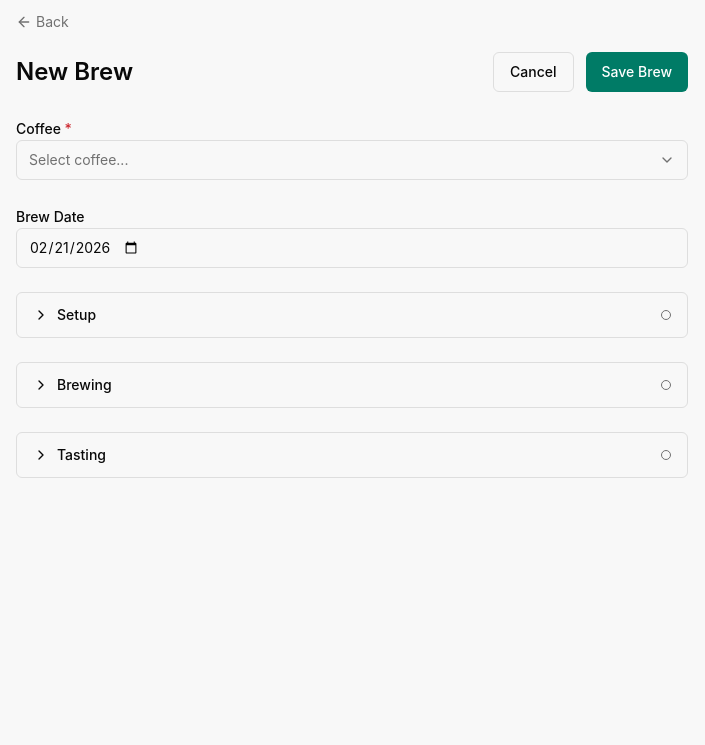
Test: BrewFormPage › can add and remove pours
Expected: the heading "New Brew" is shown, [16, 56, 133, 88]
Click the button "Brewing".
click(84, 384)  # box [17, 363, 687, 407]
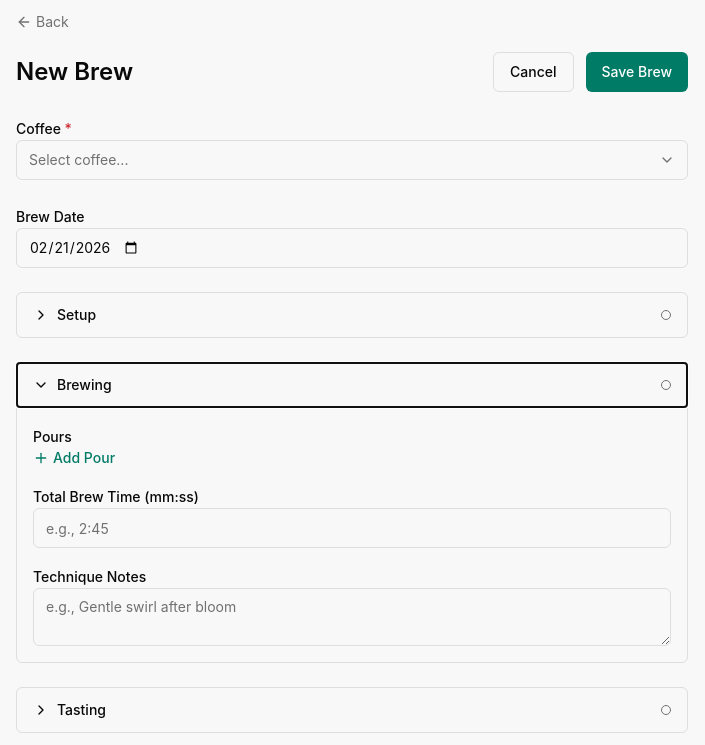
Click the button "Add Pour".
click(74, 458)  # box [33, 448, 115, 468]
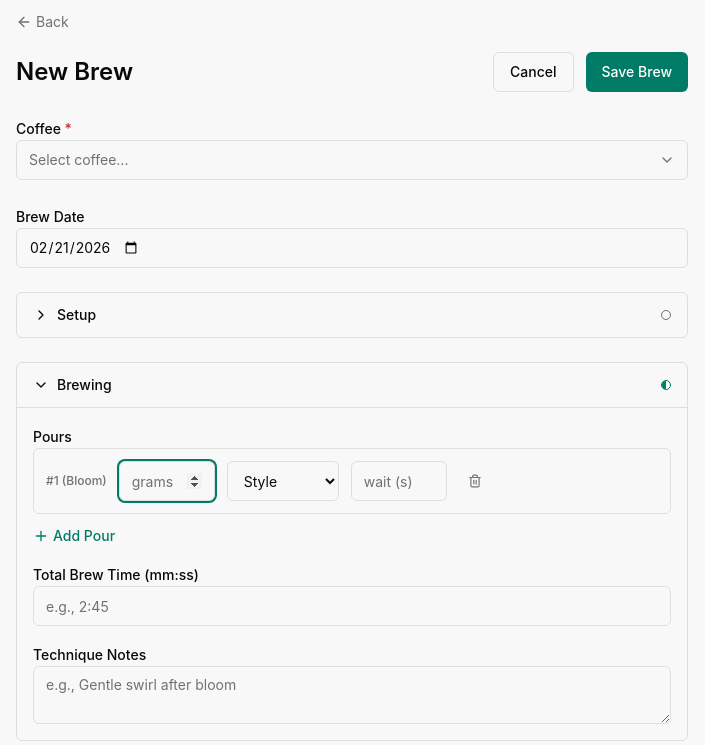
Expected: the text "#1 (Bloom)" is shown, [46, 473, 107, 489]
Click the button "Add Pour".
click(74, 536)  # box [33, 526, 115, 546]
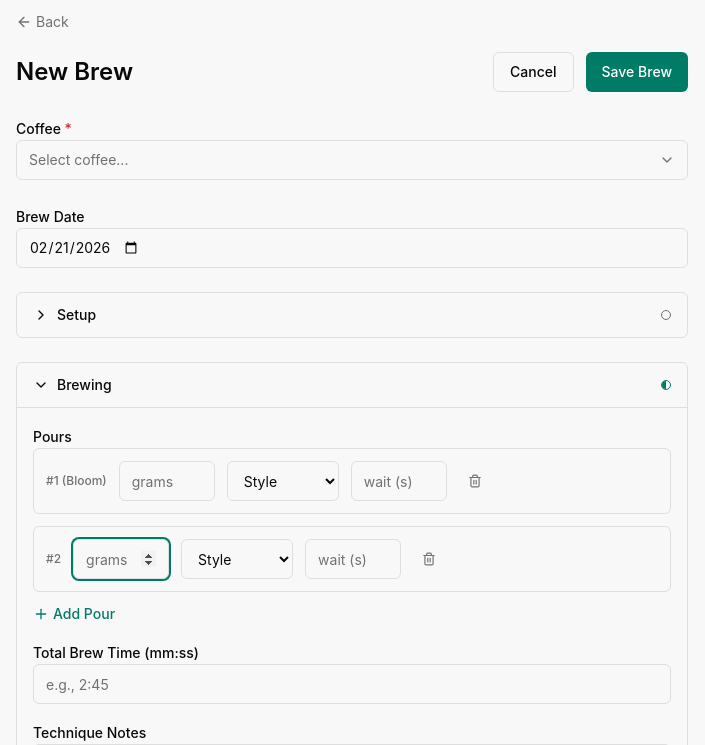
Expected: the text "#2" is shown, [46, 551, 61, 567]
Expected: the number of buttons named "Remove pour" is 2
Remove second pour
Click the button named "Remove pour".
click(429, 559)  # box [413, 543, 445, 575]
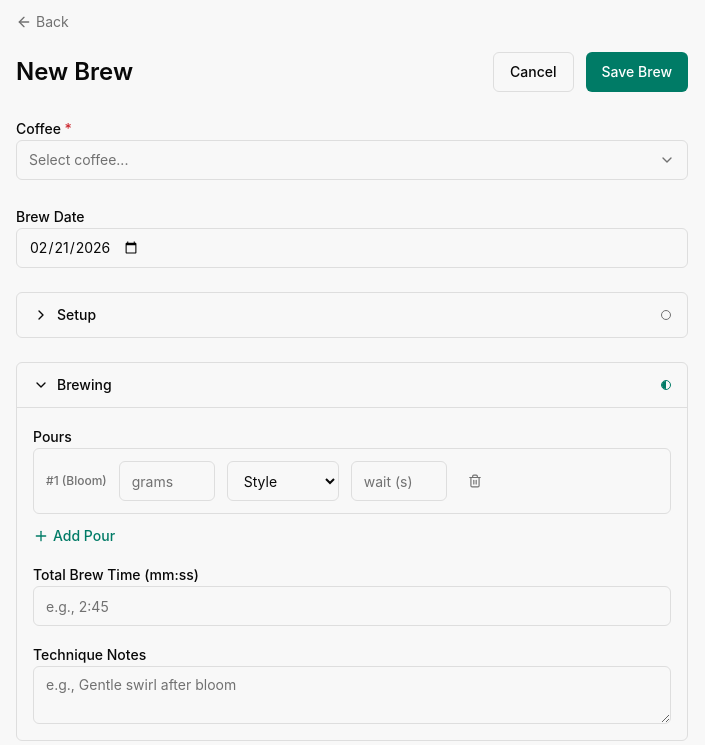
Expected: the number of buttons named "Remove pour" is 1, [459, 465, 491, 497]
Expected: the text "#2" is gone
